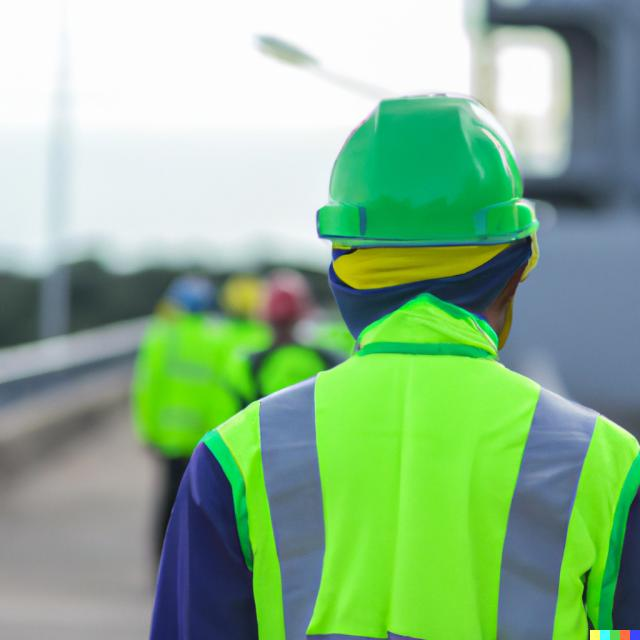Reflective-Jacket: (194, 343, 640, 640)
Safety-Helmet: (312, 87, 538, 281)
